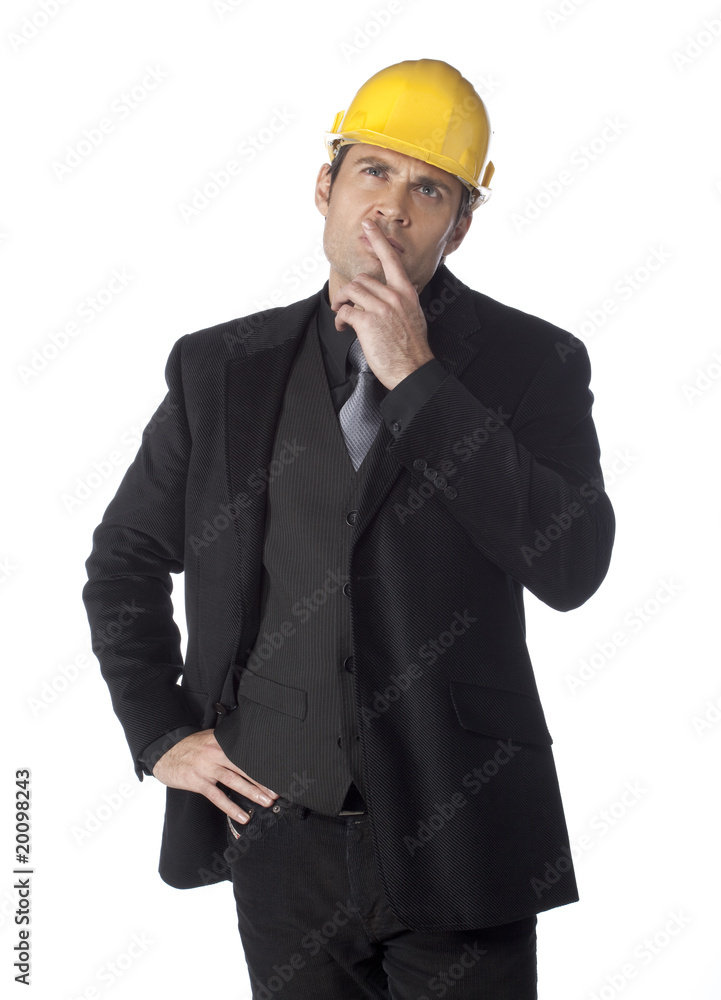casque: (133, 2, 624, 407)
